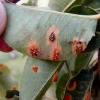Apple rust leaf: (6, 1, 99, 64)
